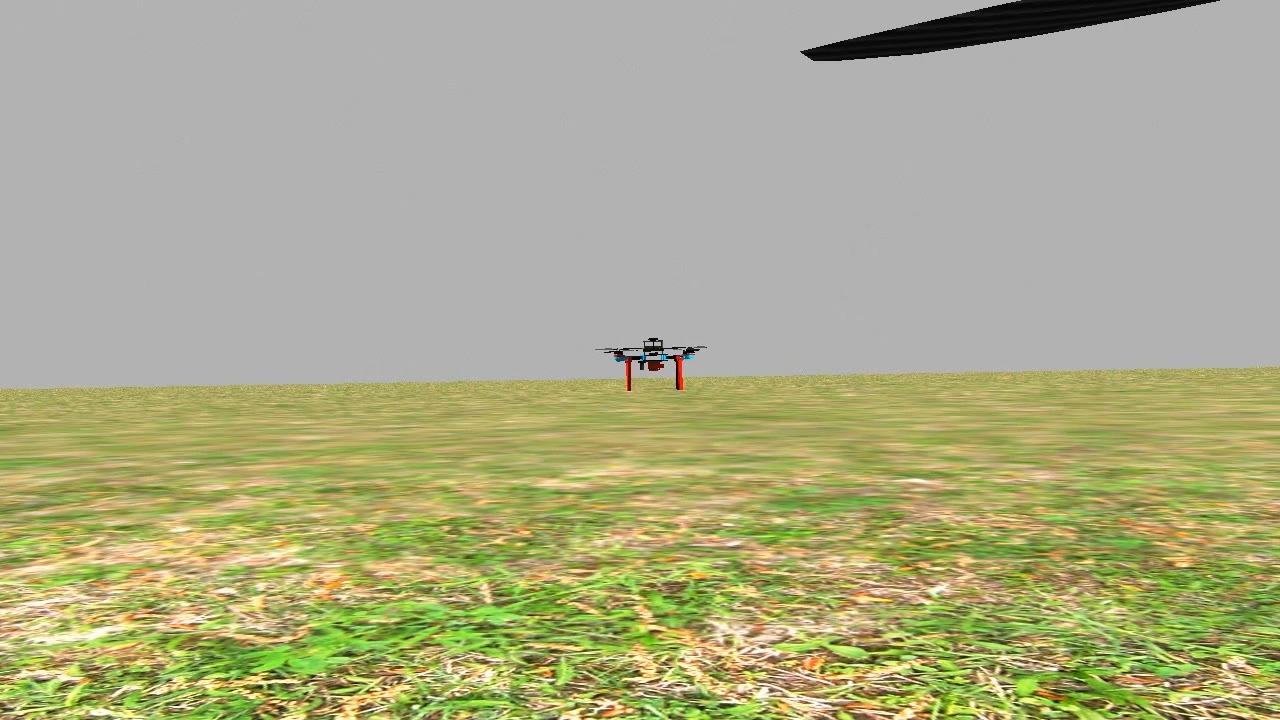UAV: (606, 327, 700, 396)
